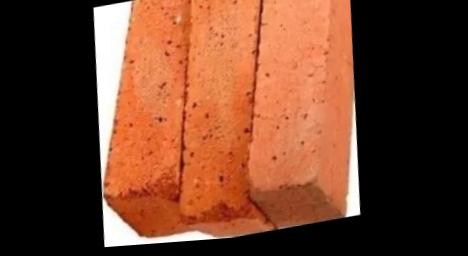brick: (154, 0, 286, 221), (83, 0, 220, 201), (227, 0, 361, 196)
